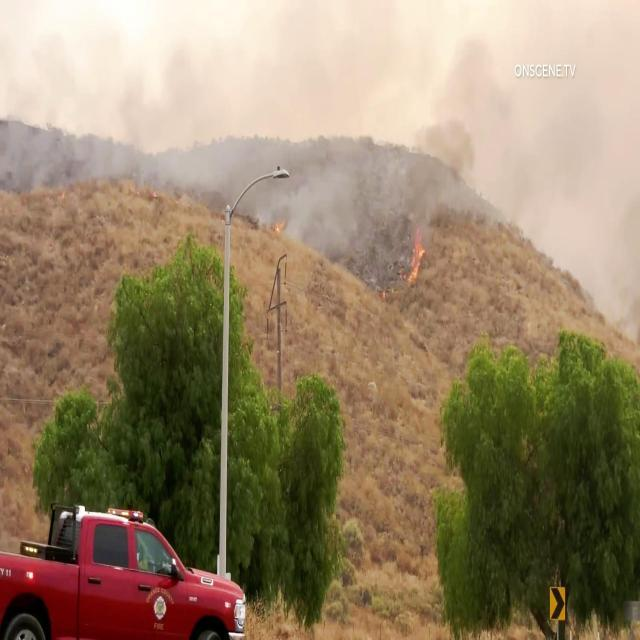Fire: (403, 220, 428, 288)
Smoke: (413, 73, 509, 215)
